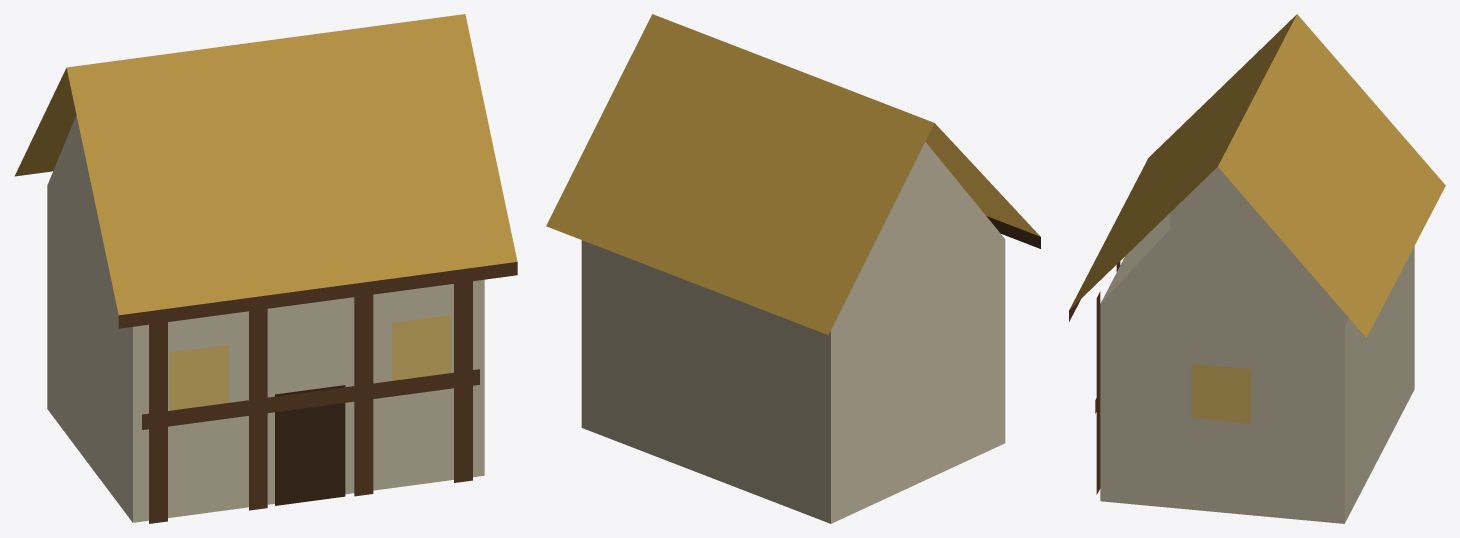
The model's file is house4.glb.
3 renders of one model, left to right at view 1: azimuth 30°, elevation 25°; view 2: azimuth 150°, elevation 25°; view 3: azimuth 270°, elevation 25°, orthographic. The views are drawn at different scales.
Parts seen in each view (by area): view 1: prop_house4; view 2: prop_house4; view 3: prop_house4.
Part boxes in pixels (x1,y1,x2,y2): prop_house4: (14,14,517,523); prop_house4: (546,14,1040,523); prop_house4: (1069,14,1445,523).
Size of the model in its own units: 0.3922 by 0.36 by 0.3464.
